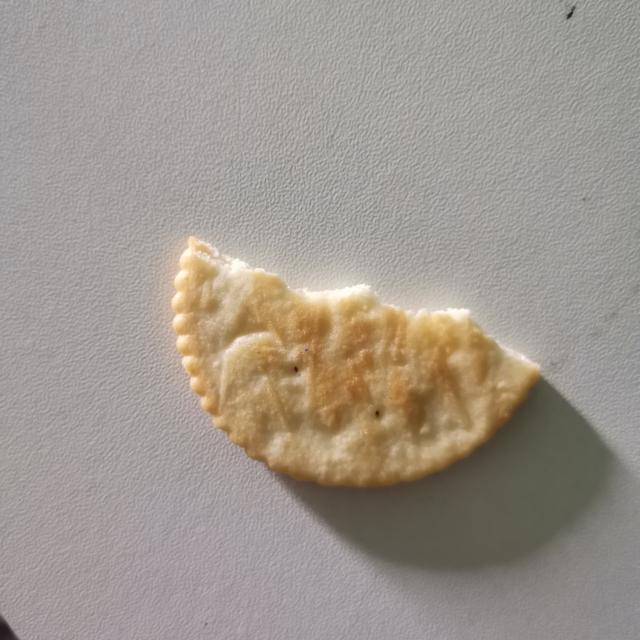Broken: (170, 234, 542, 490)
